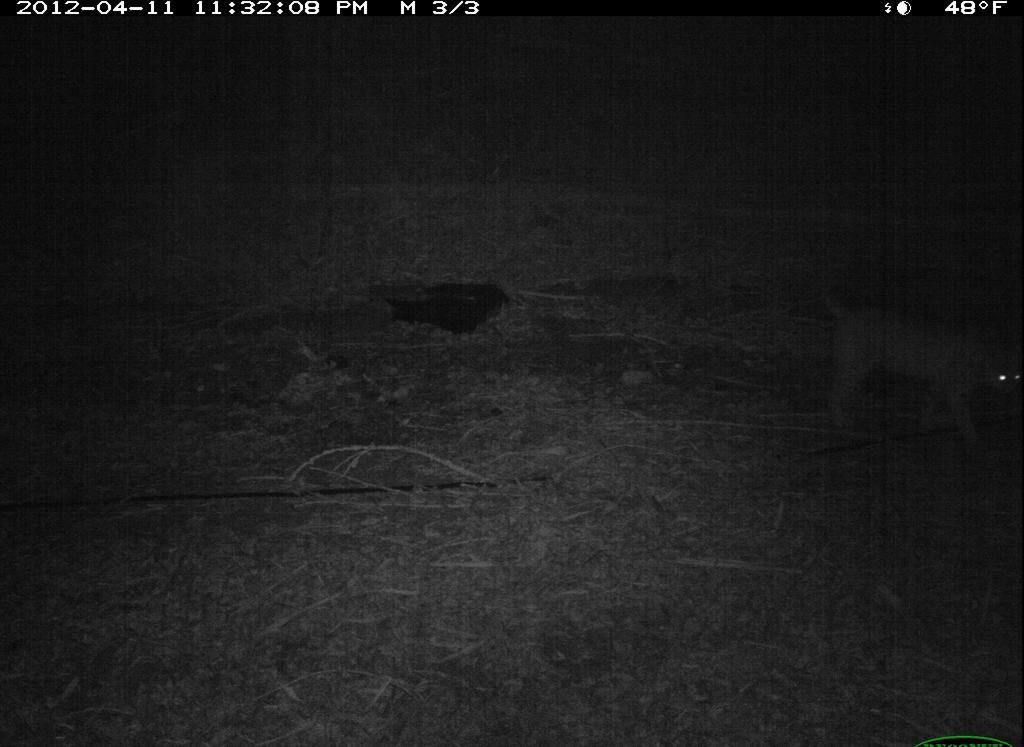bobcat: (798, 245, 1024, 457)
